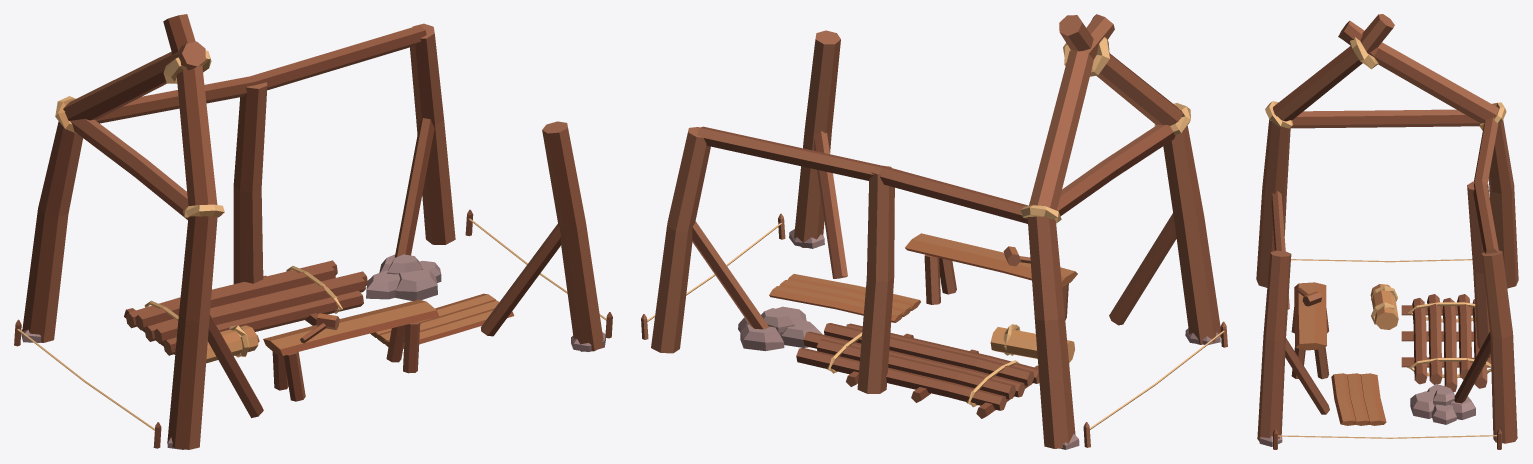
File: Primitive_Workshop_Construction_Site.glb
The picture shows the model from 3 angles, left to right: view 1: azimuth 30°, elevation 25°; view 2: azimuth 150°, elevation 25°; view 3: azimuth 270°, elevation 25°; orthographic projection. The views are drawn at different scales.
Parts seen in each view (by area): view 1: Workshop construction site; view 2: Workshop construction site; view 3: Workshop construction site.
Part boxes in pixels (x1,y1,x2,y2): Workshop construction site: [14, 14, 612, 449]; Workshop construction site: [641, 14, 1227, 449]; Workshop construction site: [1256, 14, 1518, 449].
Bounding box in the file's own units: 5.64 × 4.3 × 3.49.
Materials: 1 (1 with a texture image).
